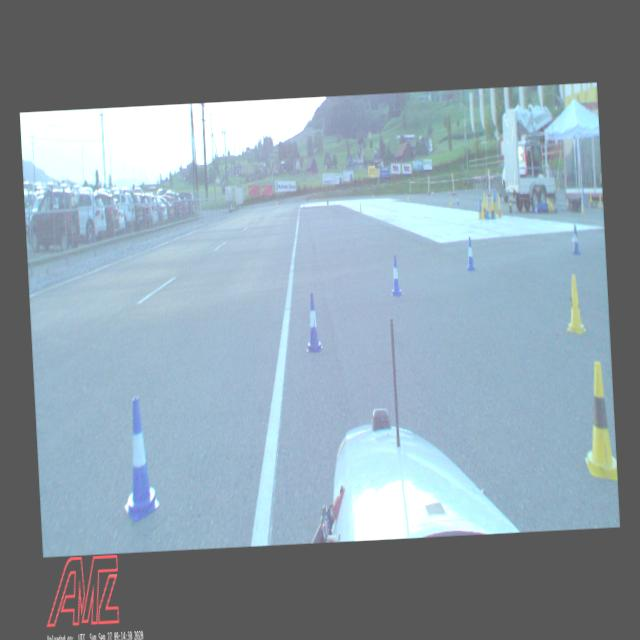blue_cone: (119, 394, 161, 521), (304, 292, 322, 353), (390, 255, 402, 296), (464, 237, 474, 270), (572, 225, 580, 254)
yellow_cone: (580, 360, 617, 480), (564, 274, 586, 333)
